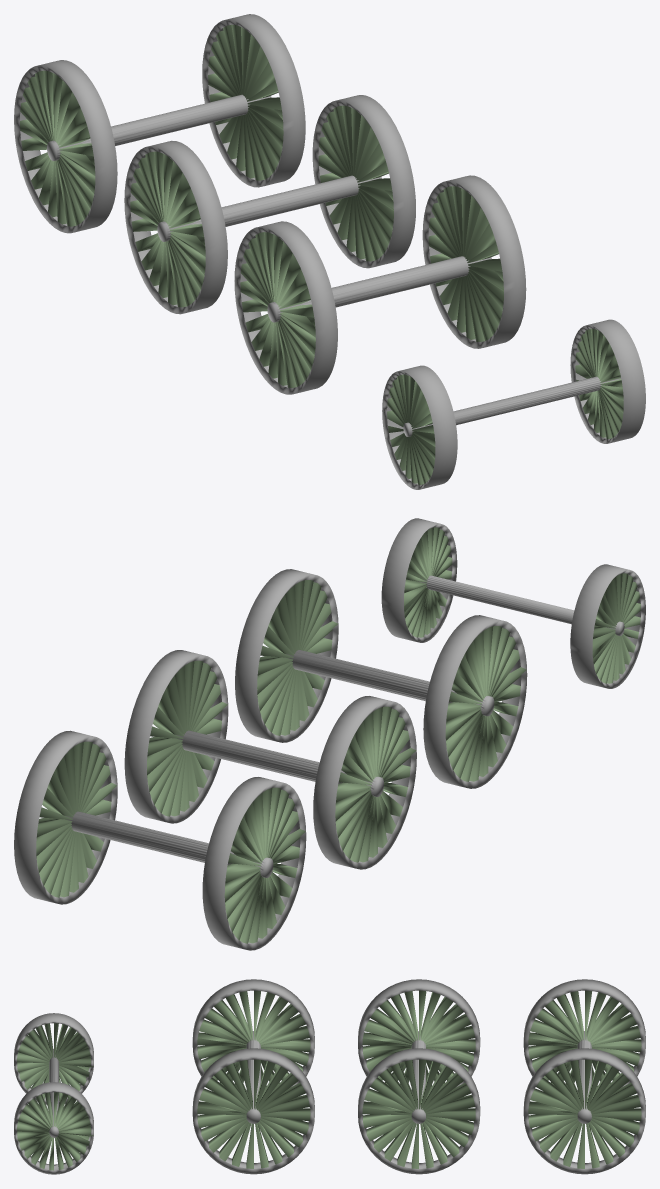
The model's file is n-class-wheels.dae.
3 renders of one model, top to bottom at view 1: azimuth 30°, elevation 25°; view 2: azimuth 150°, elevation 25°; view 3: azimuth 270°, elevation 25°, orthographic. The views are drawn at different scales.
Visible parts, largest first — view 1: Cylinder_020, Cylinder_021, Cylinder_019, Cylinder_018; view 2: Cylinder_019, Cylinder_020, Cylinder_021, Cylinder_018; view 3: Cylinder_021, Cylinder_020, Cylinder_019, Cylinder_018.
Boxes of the visible parts, <box> form: Cylinder_020: <box>14,14,305,233</box>; Cylinder_021: <box>234,175,526,394</box>; Cylinder_019: <box>124,95,415,314</box>; Cylinder_018: <box>382,319,645,489</box>; Cylinder_019: <box>124,650,416,869</box>; Cylinder_020: <box>14,730,306,950</box>; Cylinder_021: <box>235,569,527,788</box>; Cylinder_018: <box>381,518,645,688</box>; Cylinder_021: <box>192,979,314,1174</box>; Cylinder_020: <box>523,979,645,1174</box>; Cylinder_019: <box>358,979,480,1174</box>; Cylinder_018: <box>14,1013,93,1174</box>.
Size of the model in its own units: 1.46 by 4.9 by 1.01.
